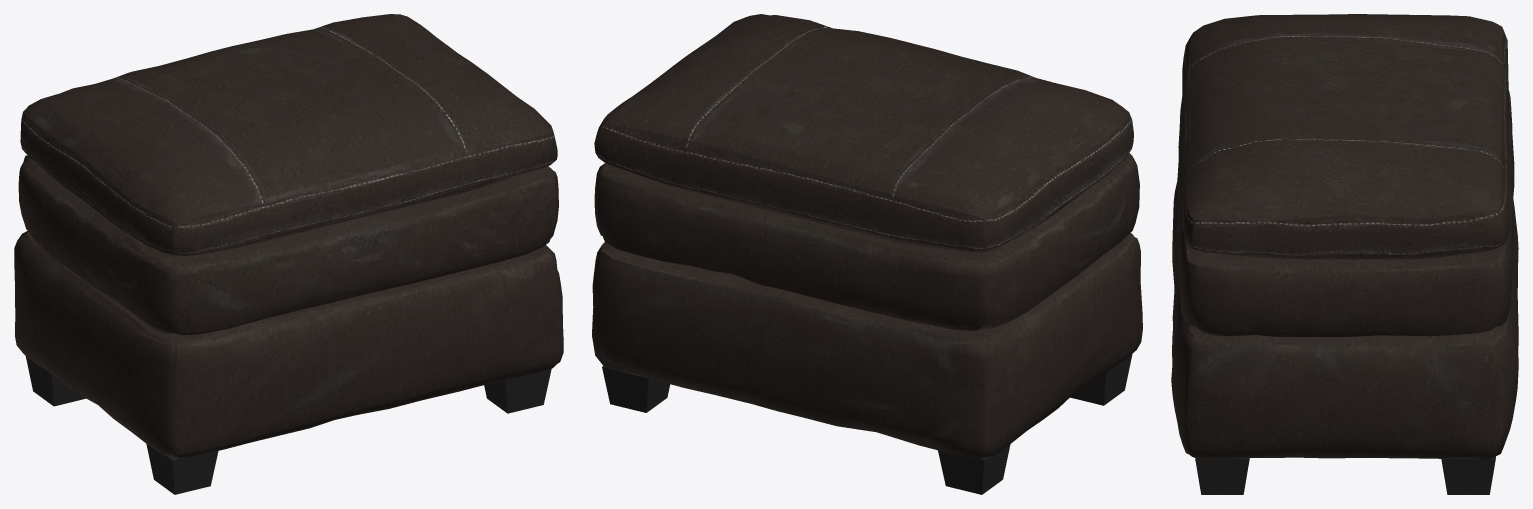
File: ph-ottoman-leather-medium.glb
3 renders of one model, left to right at view 1: azimuth 30°, elevation 25°; view 2: azimuth 150°, elevation 25°; view 3: azimuth 270°, elevation 25°, orthographic.
Parts seen in each view (by area): view 1: Ottoman_01; view 2: Ottoman_01; view 3: Ottoman_01.
Part boxes in pixels (x1,y1,x2,y2): Ottoman_01: (14,14,563,494); Ottoman_01: (592,14,1142,494); Ottoman_01: (1171,14,1518,494).
Size of the model in its own units: 0.8846 by 0.6243 by 0.6211.
1 material, 1 textured.
